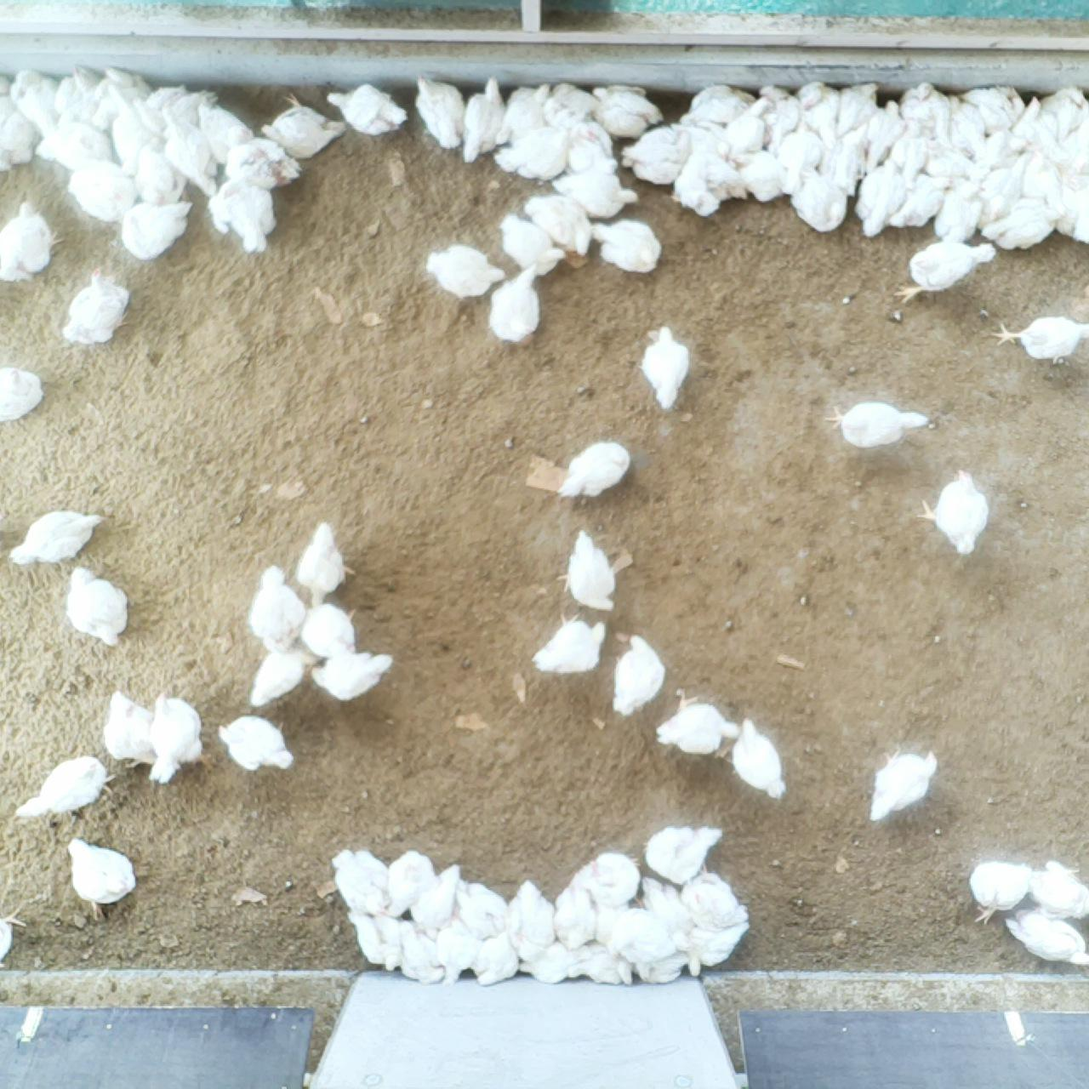chicken: (918, 466, 989, 560), (148, 688, 215, 787), (15, 753, 118, 817), (152, 101, 222, 195), (654, 687, 741, 762), (893, 241, 993, 304), (206, 169, 279, 254), (66, 833, 136, 921), (671, 139, 747, 214), (62, 562, 130, 645), (259, 94, 344, 160), (65, 265, 134, 345), (870, 746, 937, 828), (105, 687, 167, 775), (6, 509, 111, 560), (293, 522, 356, 607), (823, 400, 933, 448), (531, 613, 611, 678), (727, 716, 787, 802), (217, 710, 297, 774), (997, 913, 1089, 968), (640, 823, 724, 883), (494, 121, 575, 183), (247, 565, 306, 650), (489, 263, 545, 351), (0, 202, 62, 280), (640, 323, 693, 414), (66, 158, 139, 224), (993, 311, 1089, 361), (121, 199, 197, 262), (854, 156, 910, 241), (812, 122, 874, 198), (557, 527, 613, 611), (502, 879, 560, 960), (558, 442, 635, 503), (460, 76, 511, 168), (848, 97, 909, 172), (879, 172, 954, 233), (685, 918, 756, 982), (613, 634, 666, 718), (496, 210, 564, 275), (971, 855, 1034, 925), (311, 651, 397, 702), (195, 100, 261, 166), (423, 241, 502, 296), (570, 852, 646, 909), (330, 847, 393, 915), (623, 121, 693, 182), (326, 84, 406, 137), (223, 135, 300, 190), (382, 849, 440, 922), (585, 219, 663, 273), (551, 173, 640, 220), (413, 75, 467, 152), (527, 194, 590, 259), (772, 117, 823, 197), (35, 120, 113, 170), (675, 869, 745, 924), (867, 122, 927, 186), (301, 596, 361, 659), (790, 164, 846, 231), (635, 875, 693, 939), (133, 85, 208, 134), (594, 82, 663, 135), (1026, 861, 1089, 919), (985, 206, 1067, 250), (342, 907, 401, 968), (391, 918, 446, 983), (132, 143, 188, 206), (792, 77, 840, 150), (416, 866, 466, 936), (935, 171, 981, 247), (248, 646, 307, 705), (830, 78, 879, 149), (107, 107, 163, 169), (55, 63, 106, 130), (728, 143, 783, 205), (610, 909, 672, 964), (453, 879, 509, 939), (678, 89, 758, 130), (557, 118, 616, 173), (14, 69, 60, 137), (536, 82, 601, 130), (99, 64, 152, 122), (902, 79, 949, 144), (434, 922, 481, 986), (496, 82, 544, 144), (724, 95, 777, 151), (565, 948, 639, 987), (672, 113, 732, 161), (944, 90, 987, 156), (962, 85, 1022, 131), (974, 169, 1024, 224), (756, 86, 805, 142), (1004, 96, 1048, 158), (470, 935, 523, 986), (1035, 86, 1089, 134), (517, 942, 579, 983), (922, 137, 976, 184), (0, 367, 44, 423), (1018, 151, 1063, 205), (554, 886, 593, 947), (0, 108, 34, 177), (1050, 181, 1089, 241), (640, 952, 693, 991), (588, 891, 630, 940), (1056, 115, 1089, 177), (969, 130, 1017, 172), (0, 903, 31, 967), (0, 65, 20, 128)
